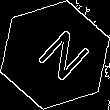N_SW: (22, 23, 88, 87)
